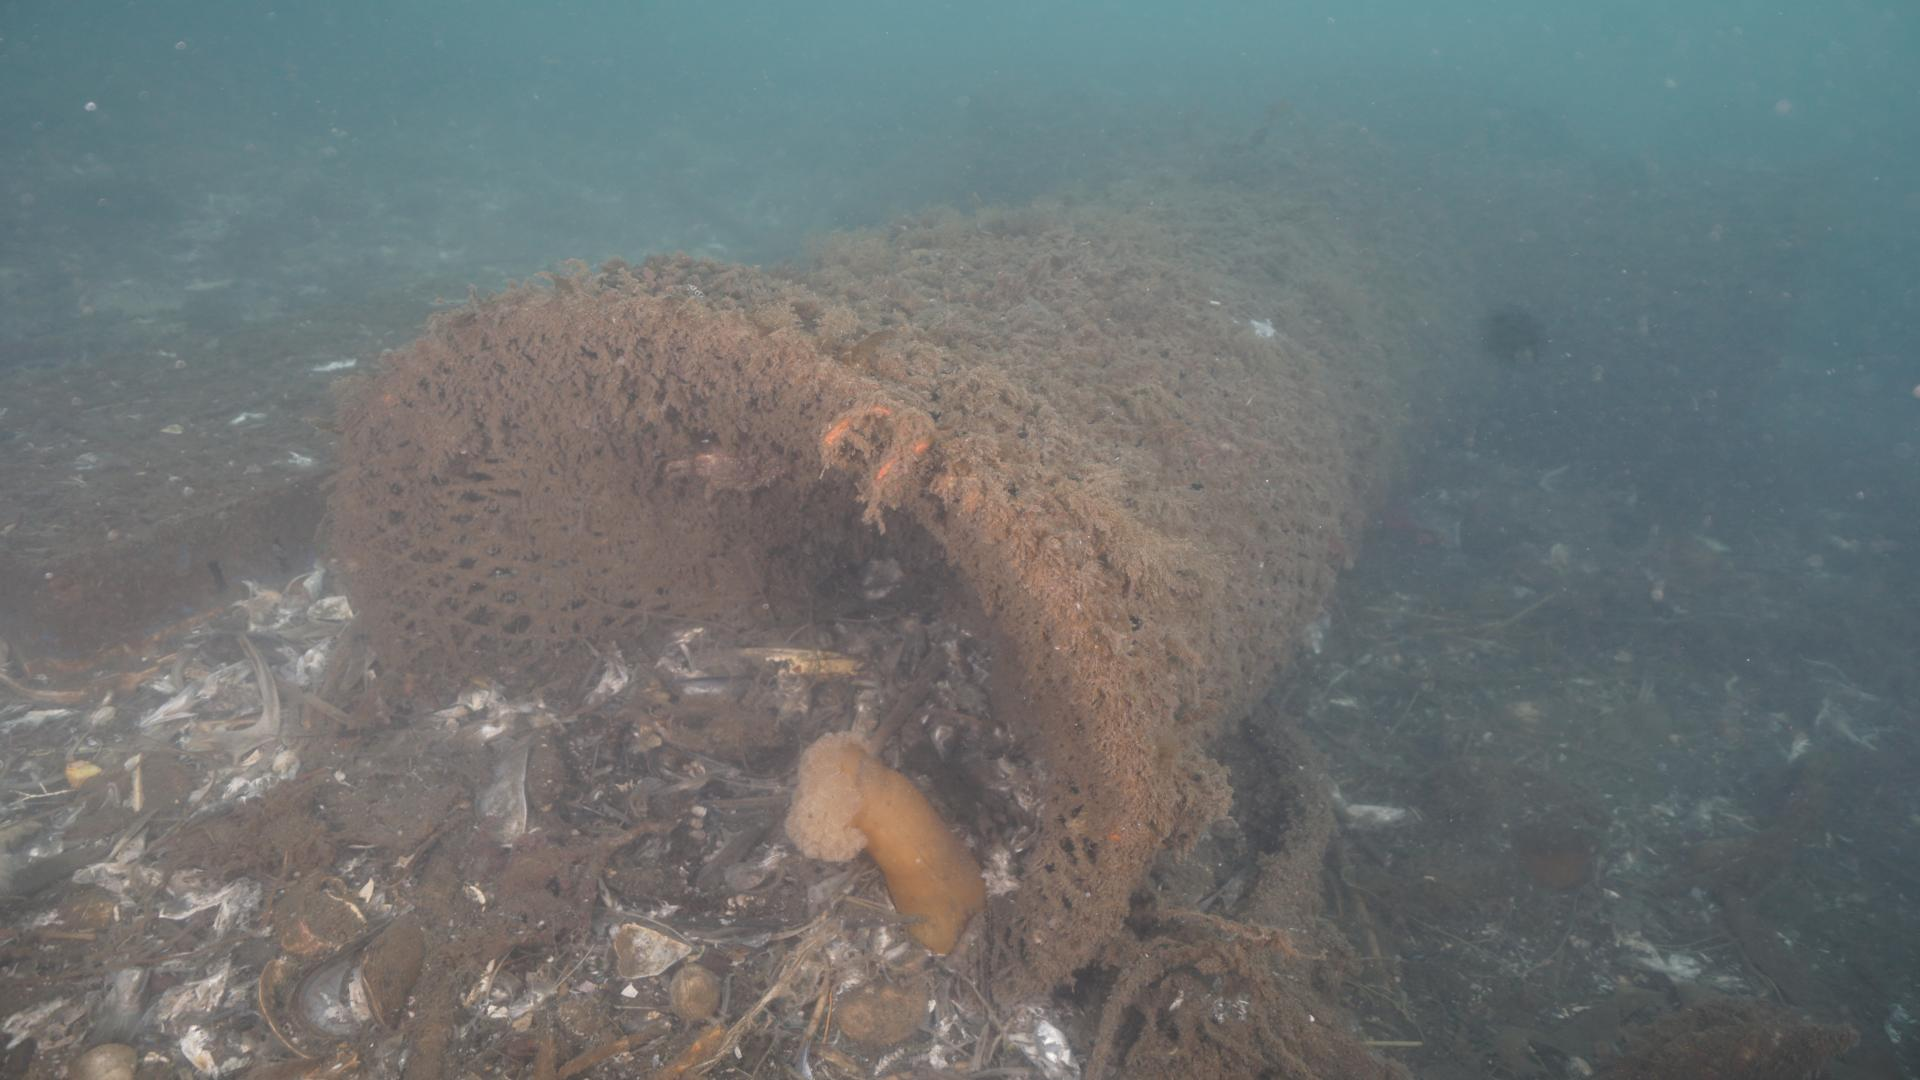spring fish trap: (314, 160, 1445, 968)
